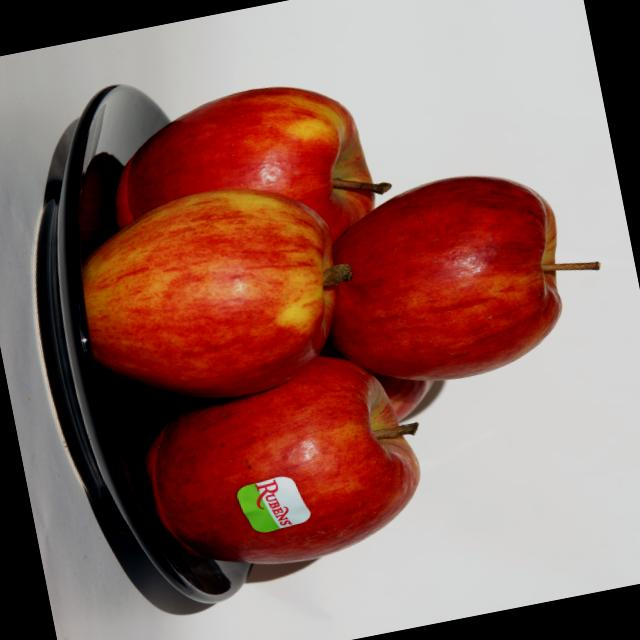apple: (56, 173, 368, 425), (306, 155, 582, 412), (134, 350, 428, 586), (92, 66, 392, 282)
